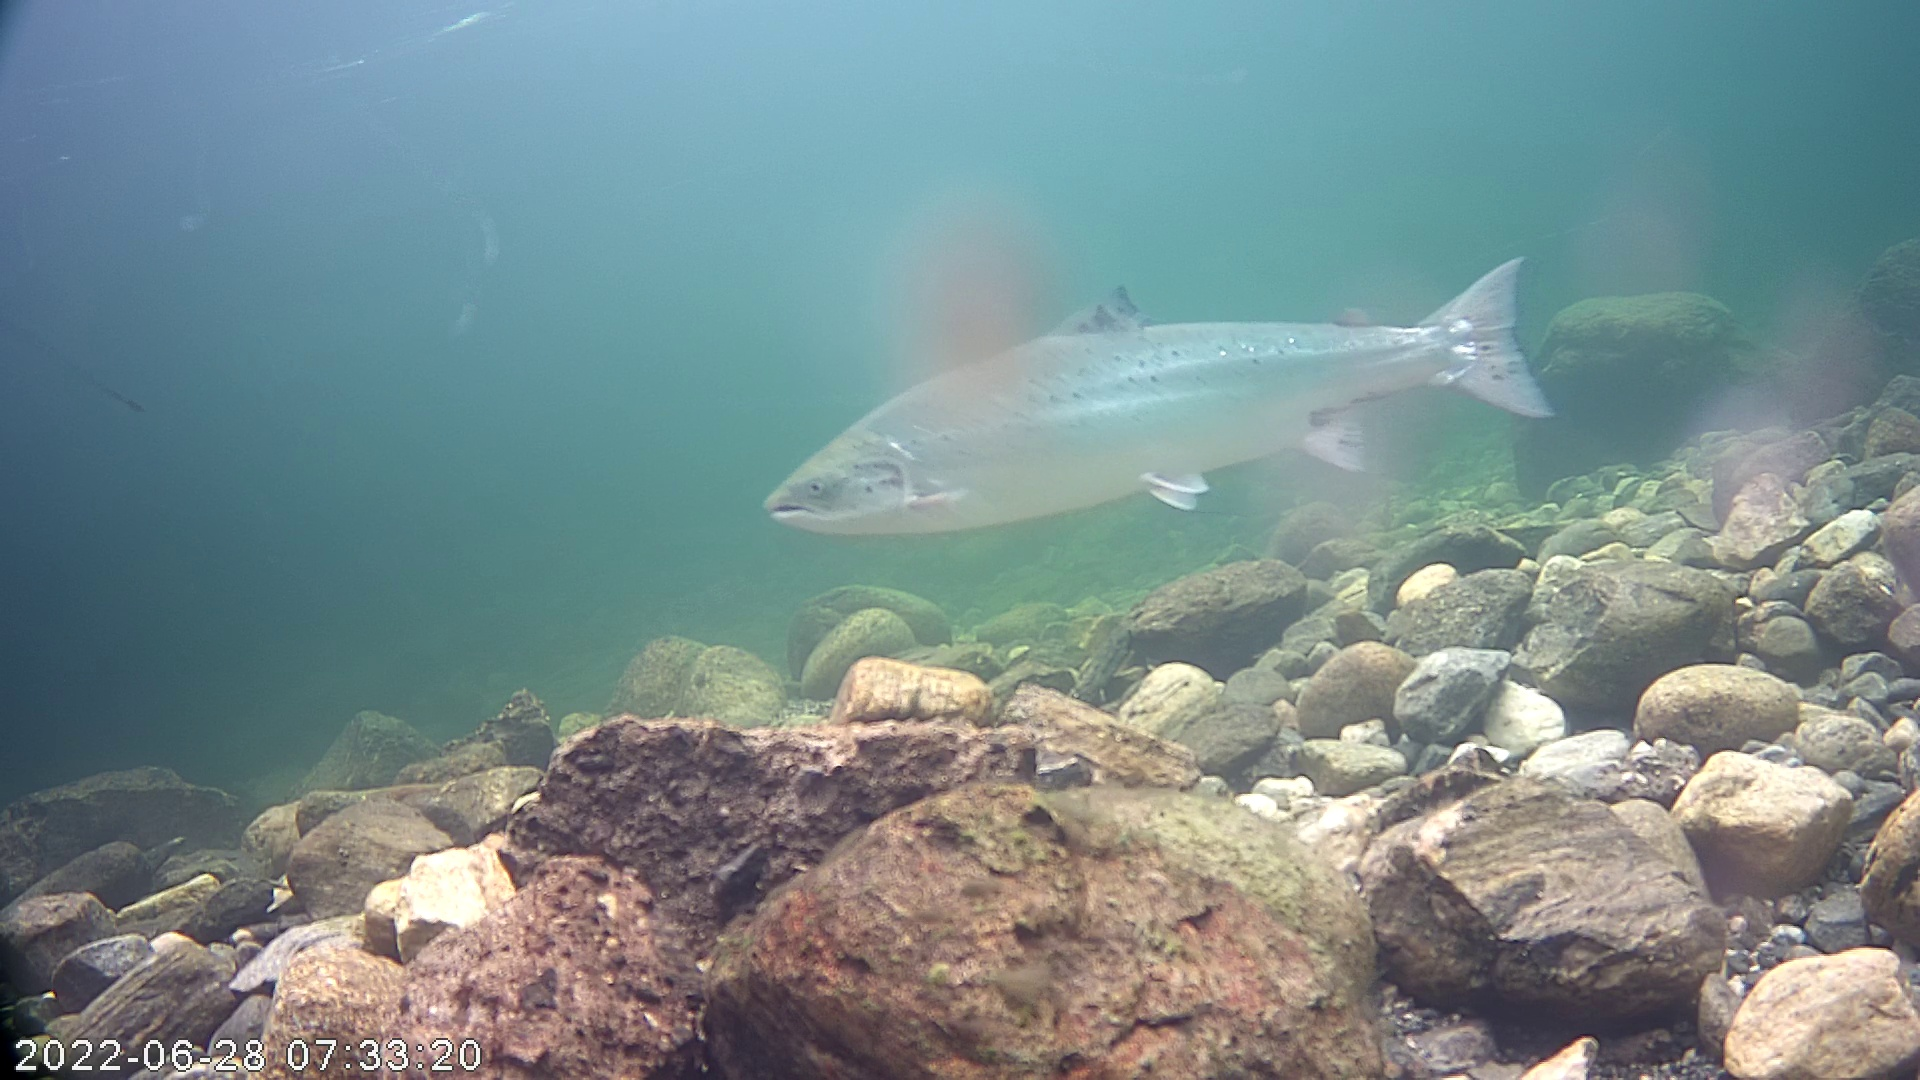salmon: (752, 179, 1596, 596)
